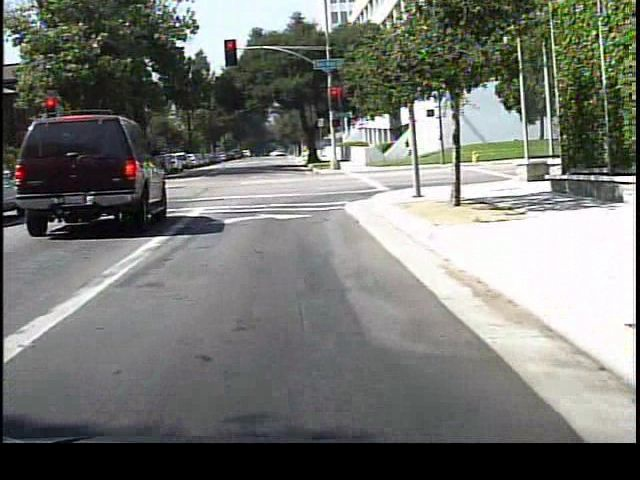person: (401, 127, 422, 167)
